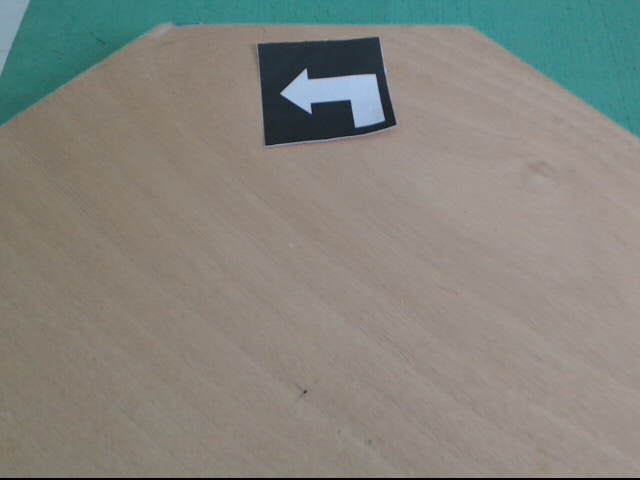left: (257, 37, 397, 150)
